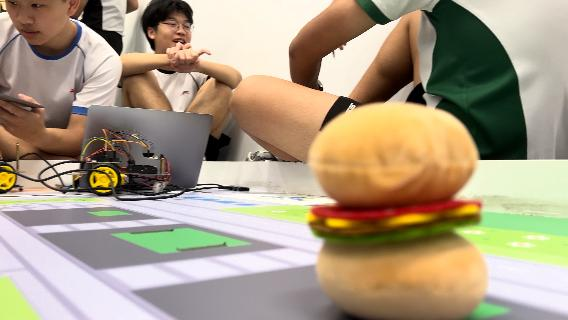burger: (302, 100, 492, 316)
